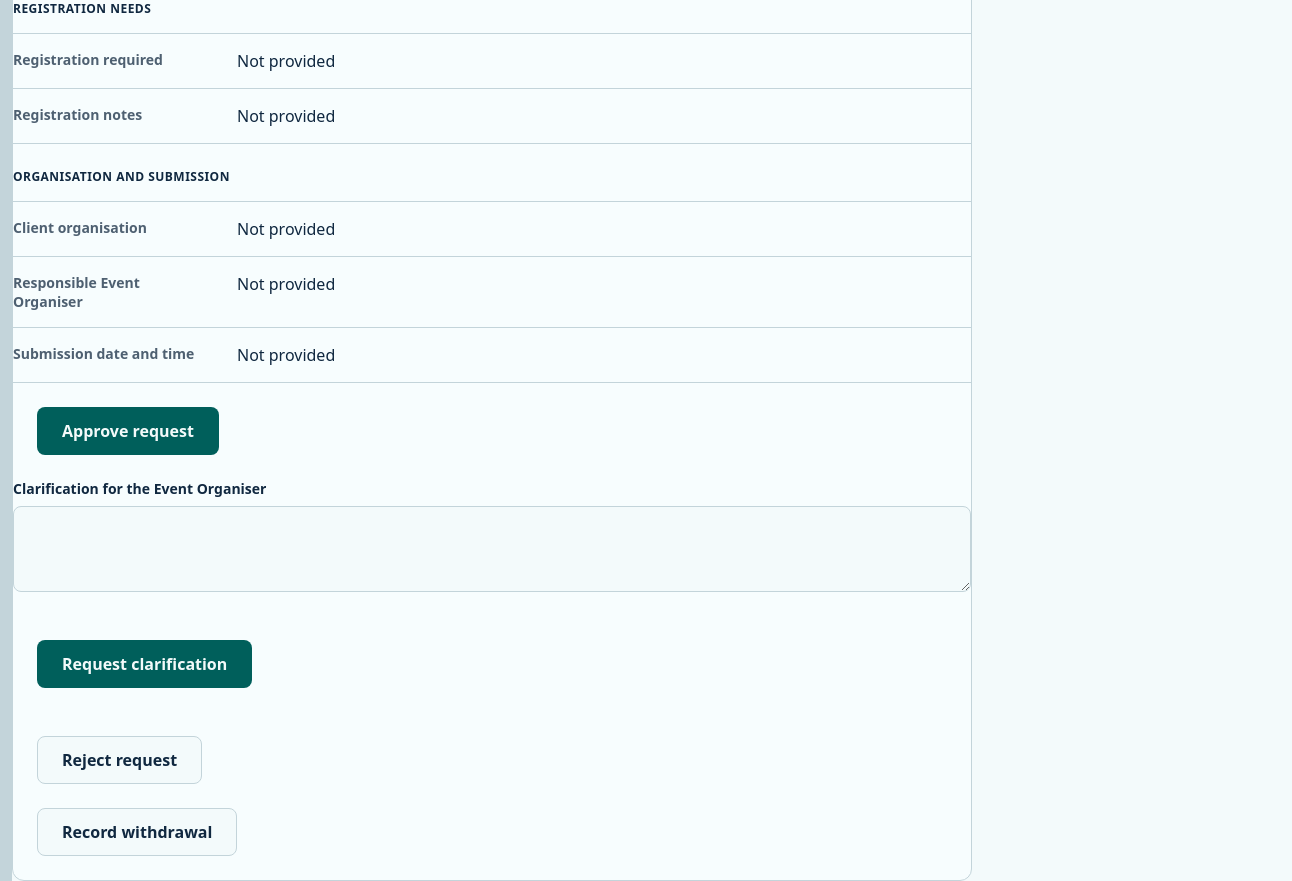
Test: [QA-SPL-65-076] shows the message, author and Singapore date and time in the history
The width and height of the screenshot is (1292, 881).
(page scrolled)
Type "Check the layout." into the text box labelled "Clarification for the Event Organiser" at (492, 549), box [13,506,971,592]
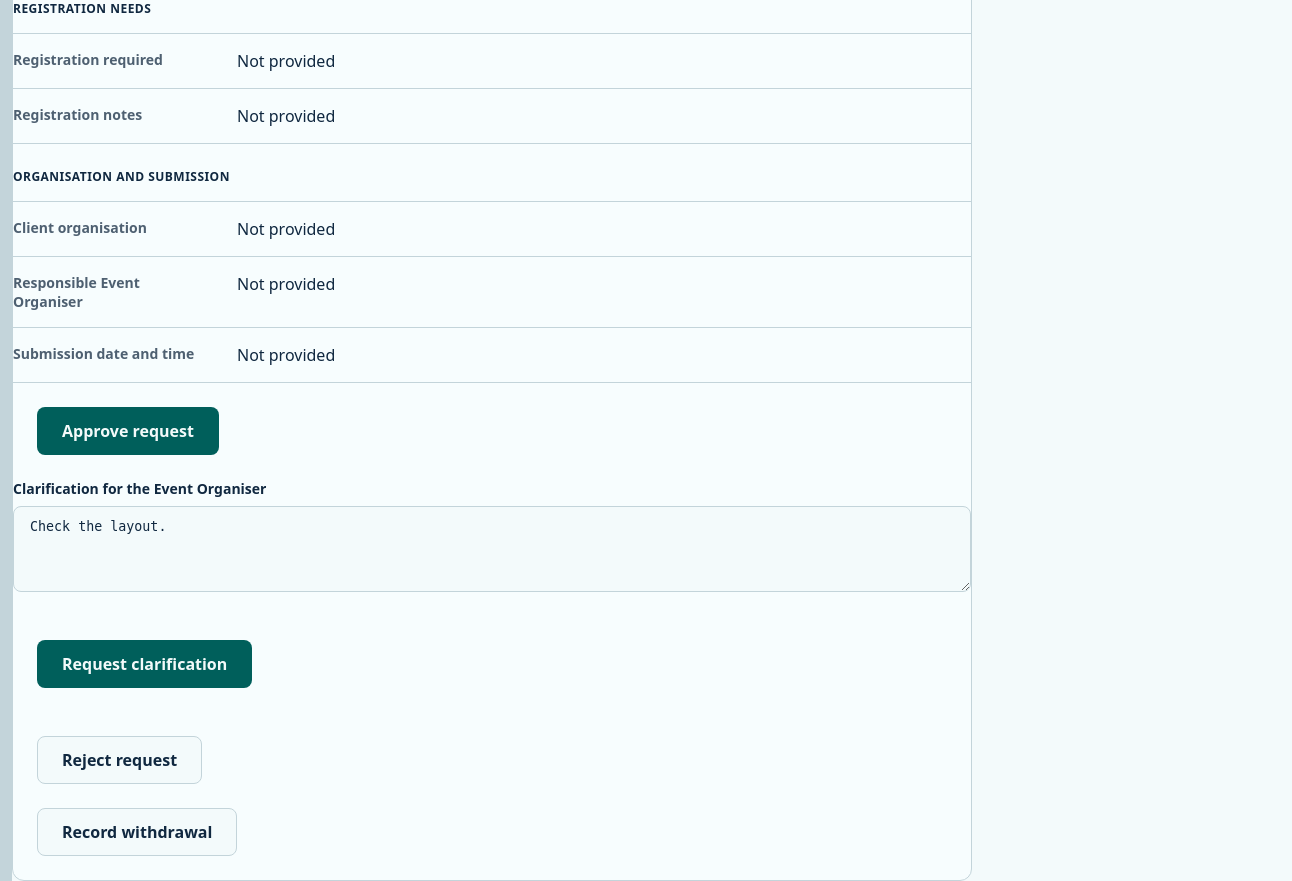
Click the button "Request clarification" at (145, 664), box [37,640,252,688]
(page scrolled)
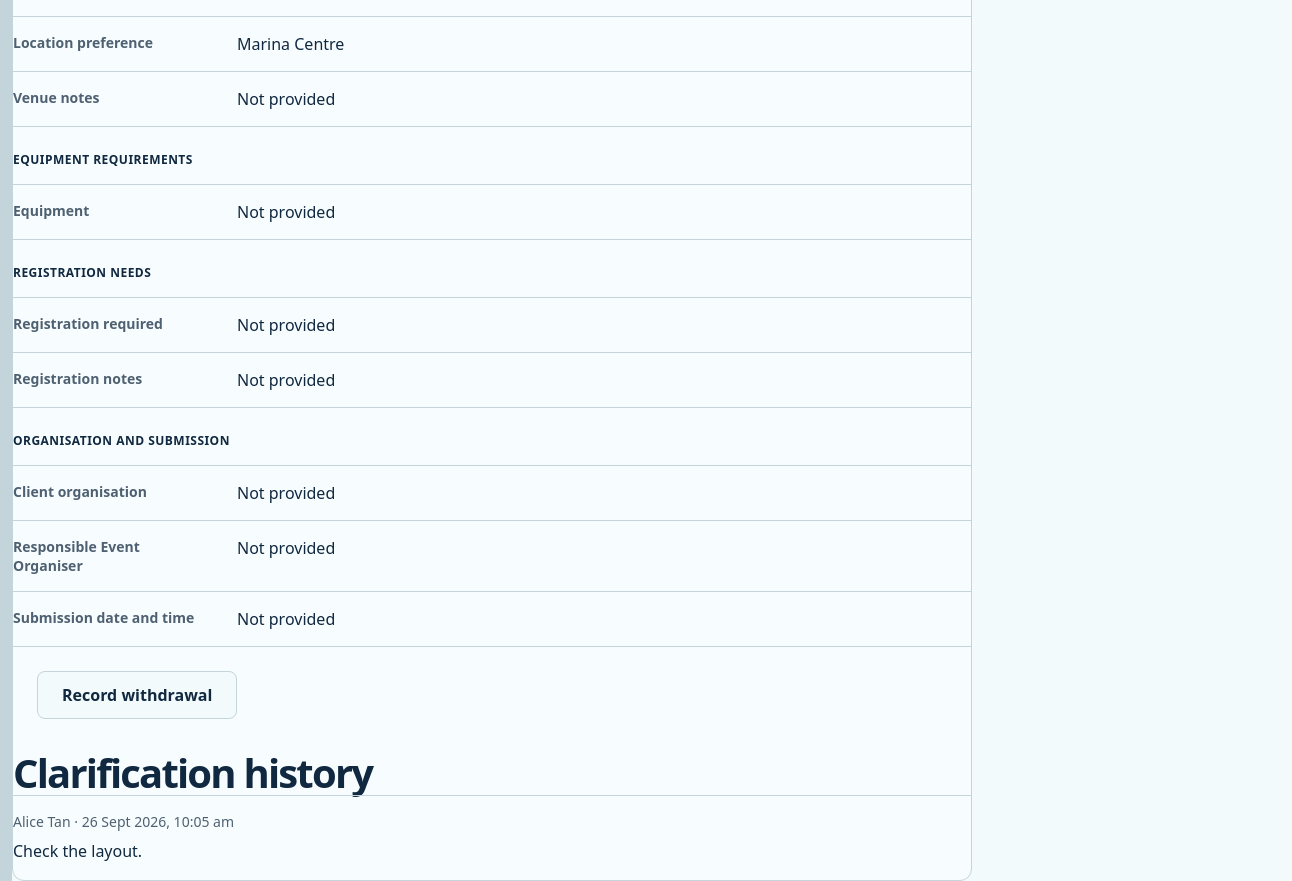
Result: the text "Check the layout." is shown at [13,840,142,862]
Result: the text "Alice Tan · 26 Sept 2026, 10:05 am" is shown at [13,812,234,831]
